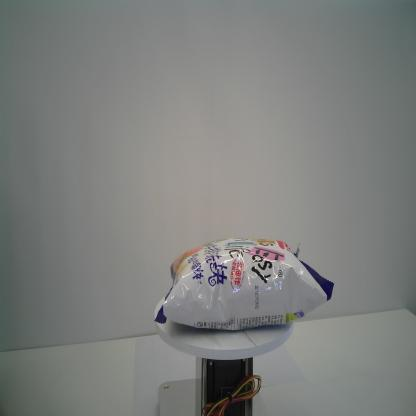Puffed Food: (154, 236, 334, 330)
